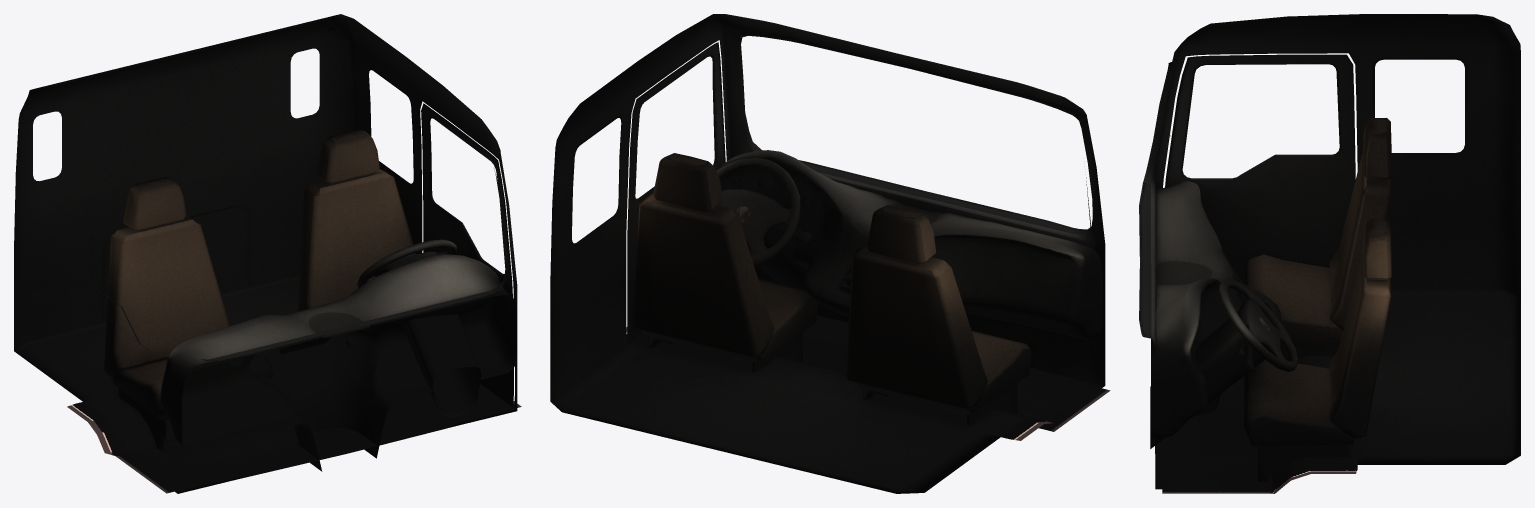
File: dlk_inside.fbx
The picture shows the model from 3 angles, left to right: view 1: azimuth 30°, elevation 25°; view 2: azimuth 150°, elevation 25°; view 3: azimuth 270°, elevation 25°; orthographic projection. The views are drawn at different scales.
Visible parts, largest first — view 1: inside; view 2: inside; view 3: inside.
Part boxes in pixels (x1,y1,x2,y2): inside: [14, 14, 521, 493]; inside: [550, 14, 1110, 493]; inside: [1139, 14, 1520, 493].
Size of the model in its own units: 207 by 157 by 172.
